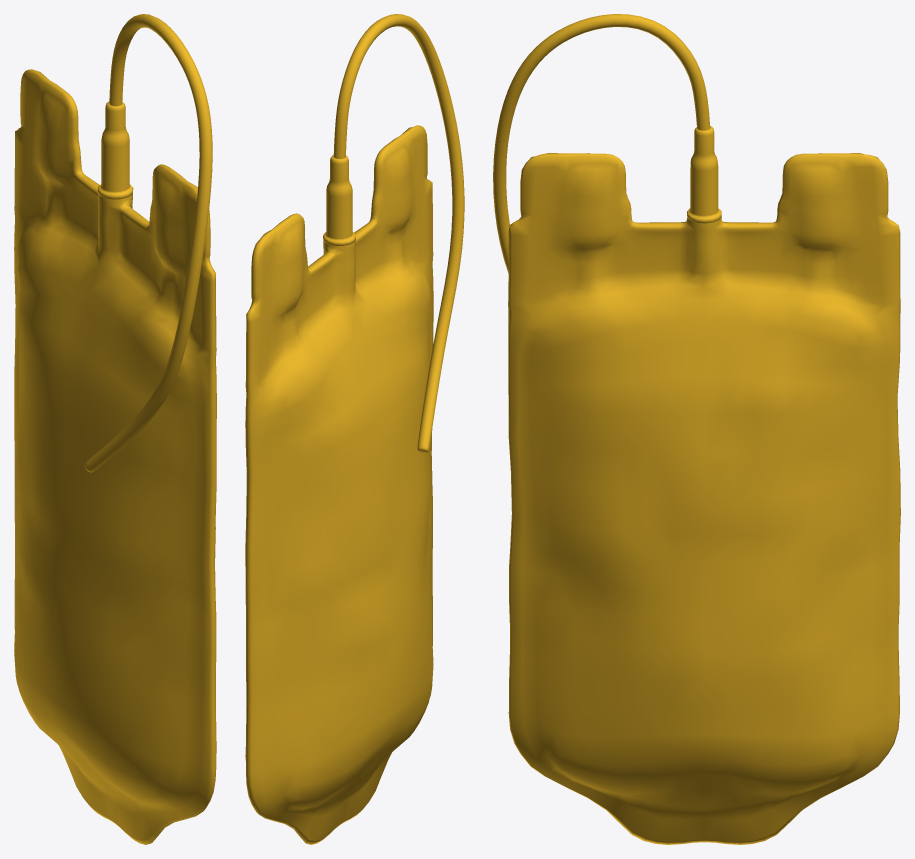
File: BCMM_PlasmaBag.fbx
3 views of the same model, side by side, from view 1: azimuth 30°, elevation 25°; view 2: azimuth 150°, elevation 25°; view 3: azimuth 270°, elevation 25° (orthographic). The views are drawn at different scales.
Parts seen in each view (by area): view 1: BCMM_PlasmaBag; view 2: BCMM_PlasmaBag; view 3: BCMM_PlasmaBag.
Boxes of the visible parts, left/top/right/bottom form: BCMM_PlasmaBag: left=14, top=14, right=216, bottom=844; BCMM_PlasmaBag: left=245, top=14, right=464, bottom=844; BCMM_PlasmaBag: left=493, top=14, right=900, bottom=844.
Size of what is drawn, in the model's own units: 3.99 by 24 by 10.68.
